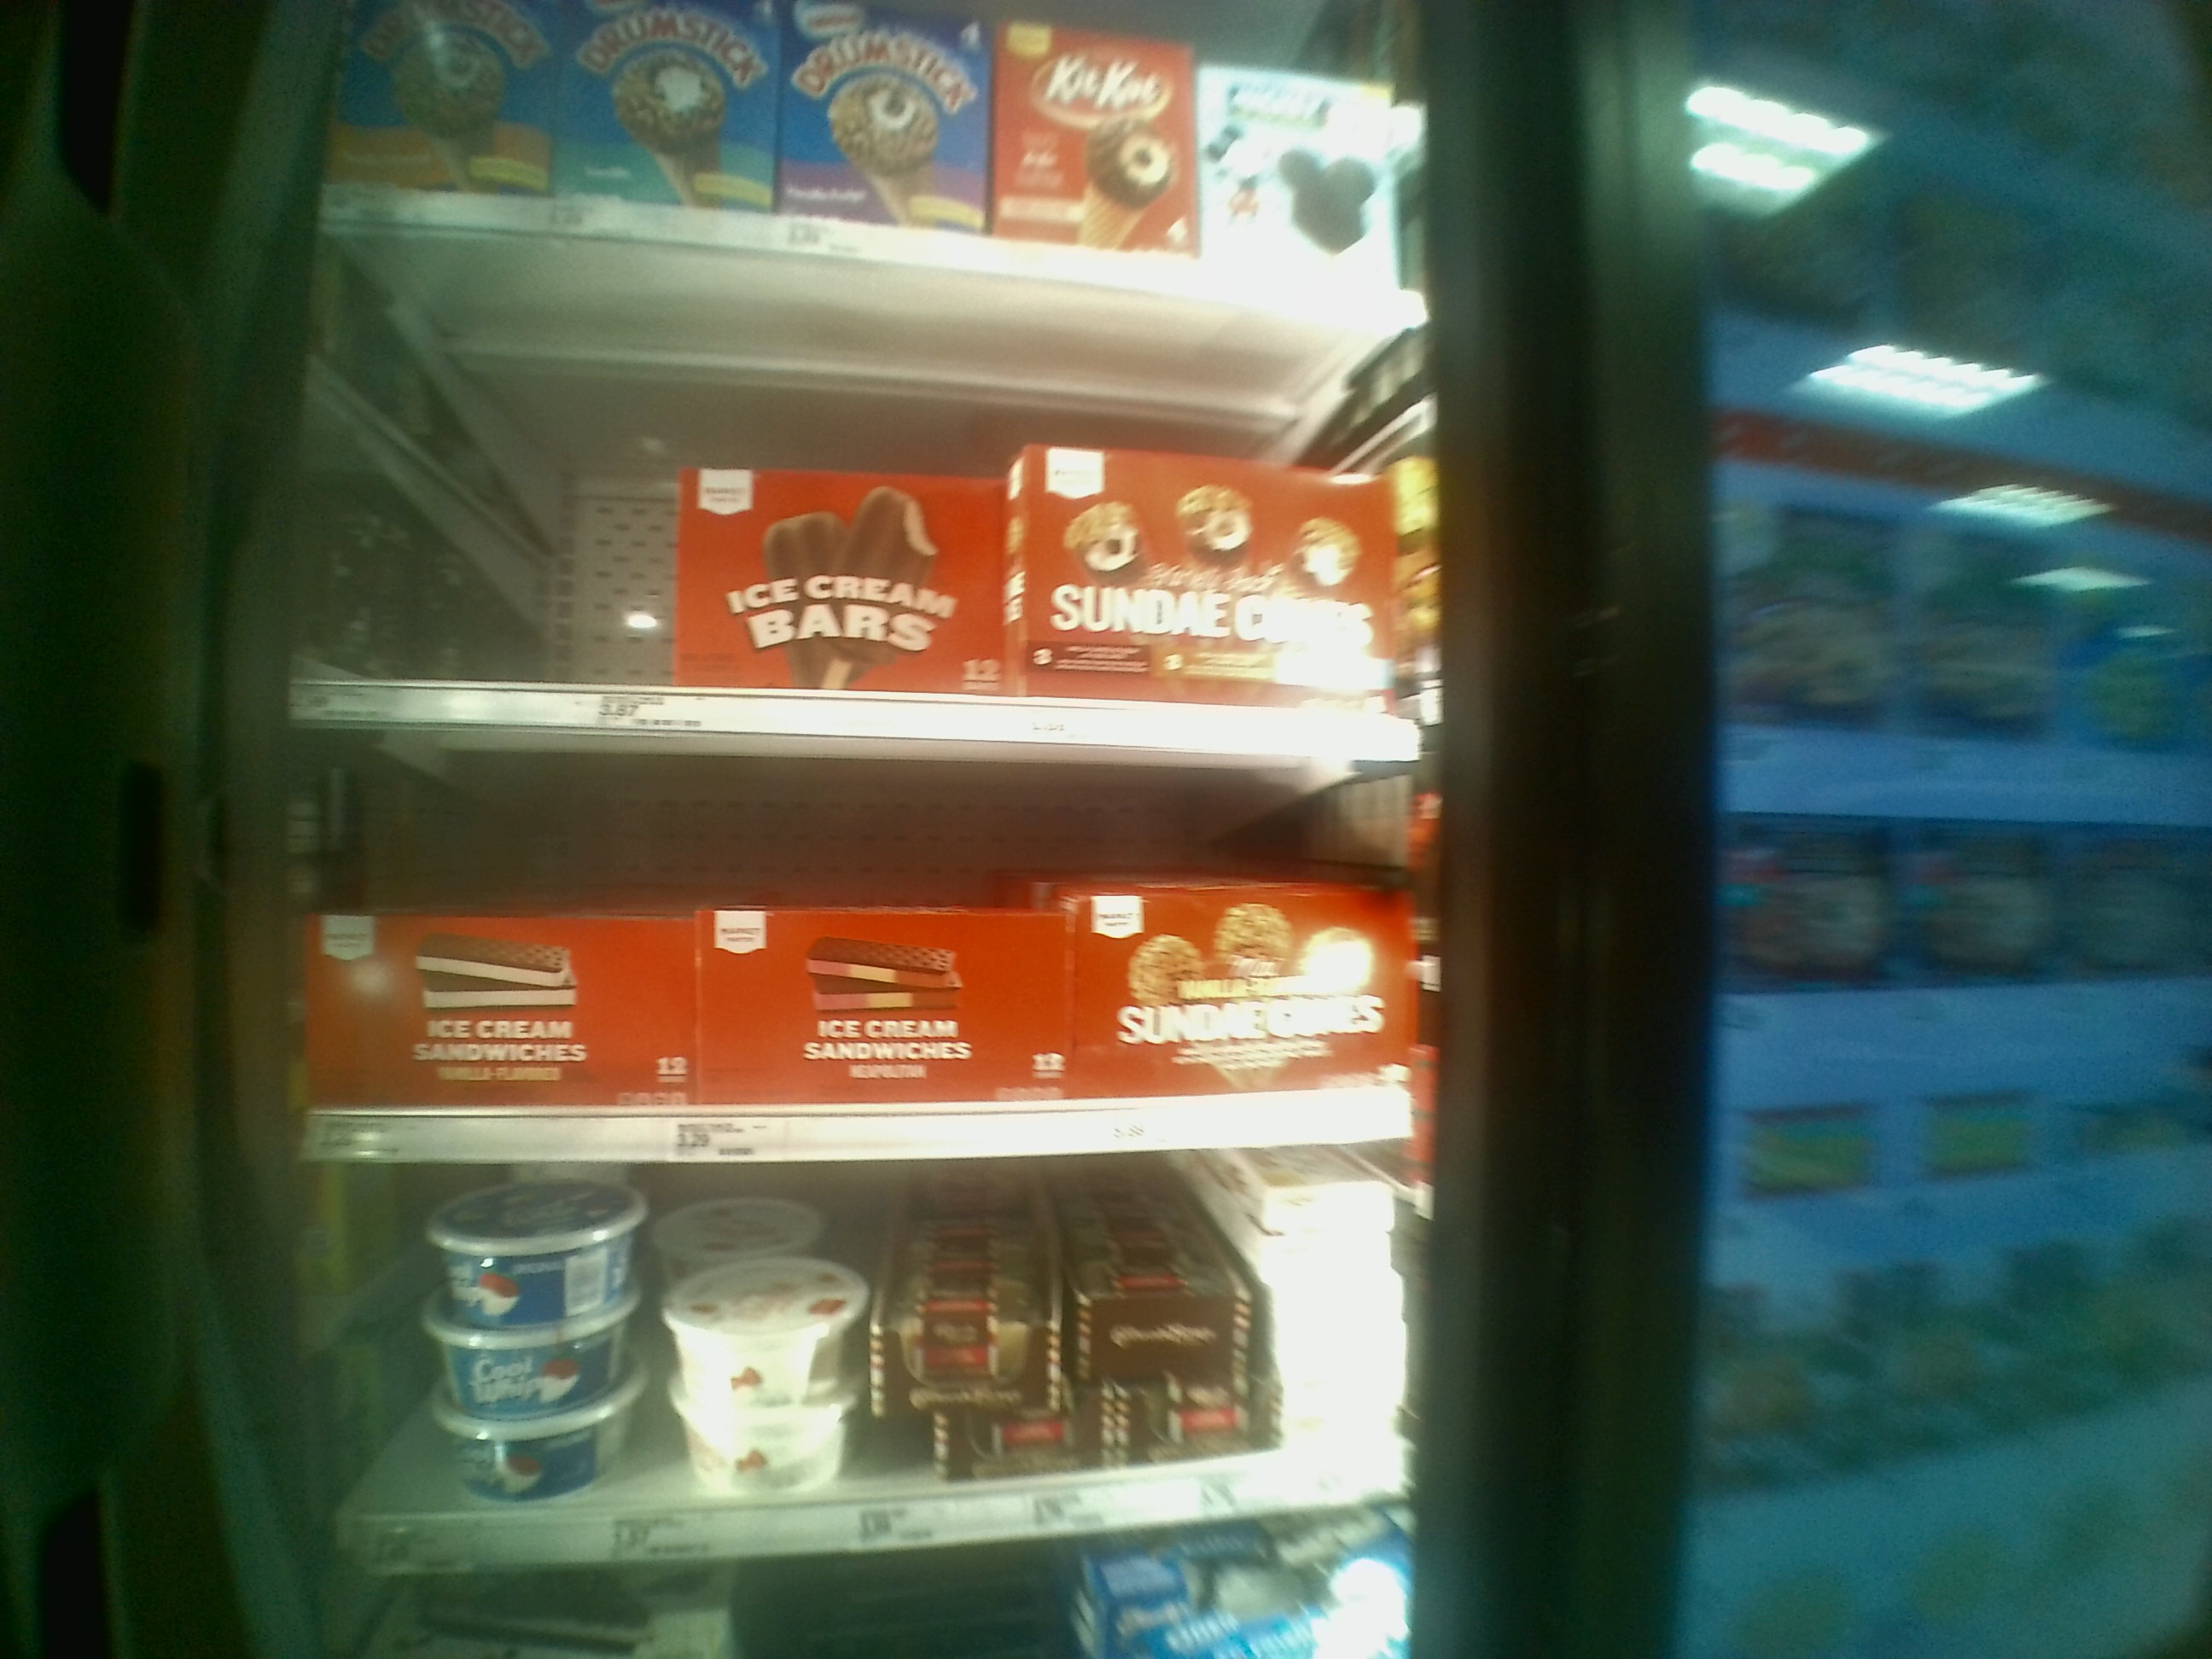shelf: (300, 265, 1402, 742), (334, 1129, 1420, 1549), (296, 751, 1423, 1140)
